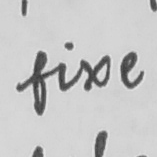e: (117, 49, 146, 90)
f: (28, 47, 51, 117)
i: (54, 39, 75, 93)
x: (77, 53, 113, 93)
